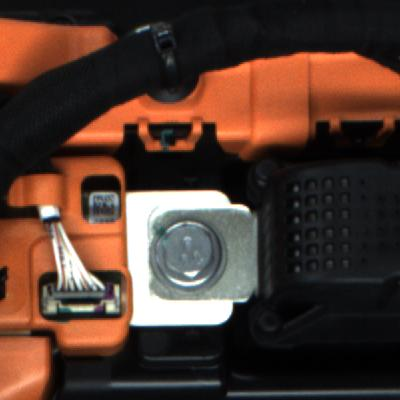nut_b: (149, 214, 224, 292)
